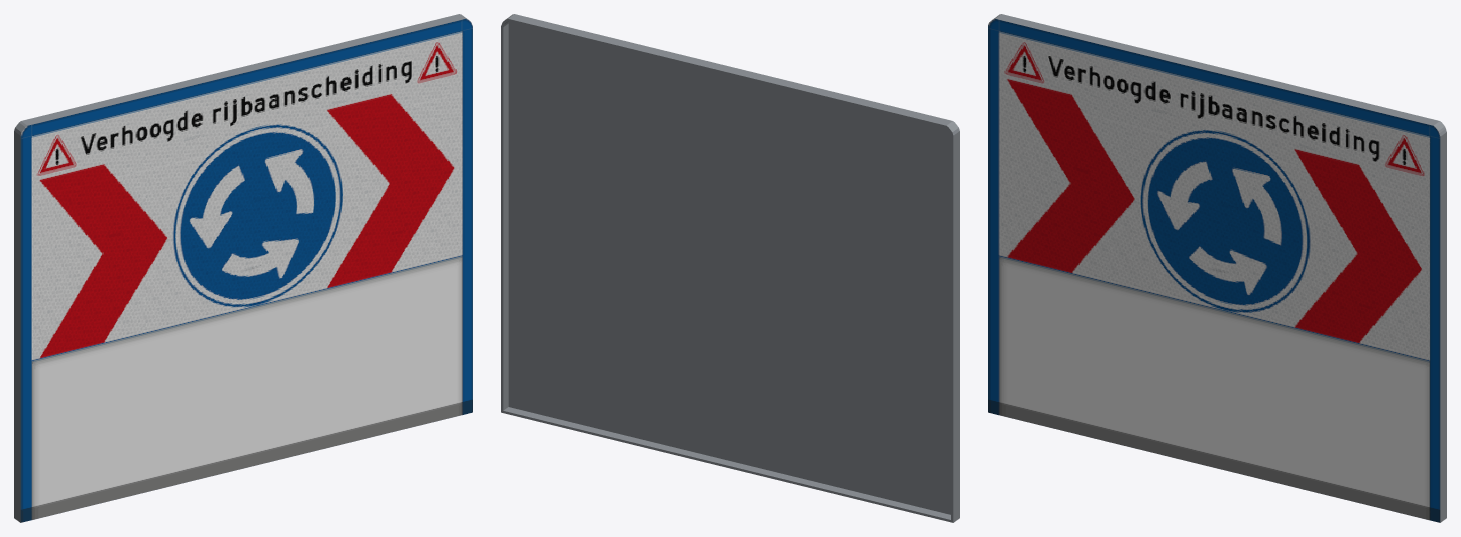
The picture shows the model from 3 angles, left to right: view 1: azimuth 30°, elevation 25°; view 2: azimuth 150°, elevation 25°; view 3: azimuth 330°, elevation 25°; orthographic projection.
Visible parts, largest first — view 1: cat_d97ffd87d4760072; view 2: cat_d97ffd87d4760072; view 3: cat_d97ffd87d4760072.
Part boxes in pixels (x1,y1,x2,y2): cat_d97ffd87d4760072: (14,14,472,522); cat_d97ffd87d4760072: (501,14,959,522); cat_d97ffd87d4760072: (988,14,1446,522).
Size of the model in its own units: 0.6 by 0.015 by 0.5013.
Materials: 2 (1 with a texture image).
